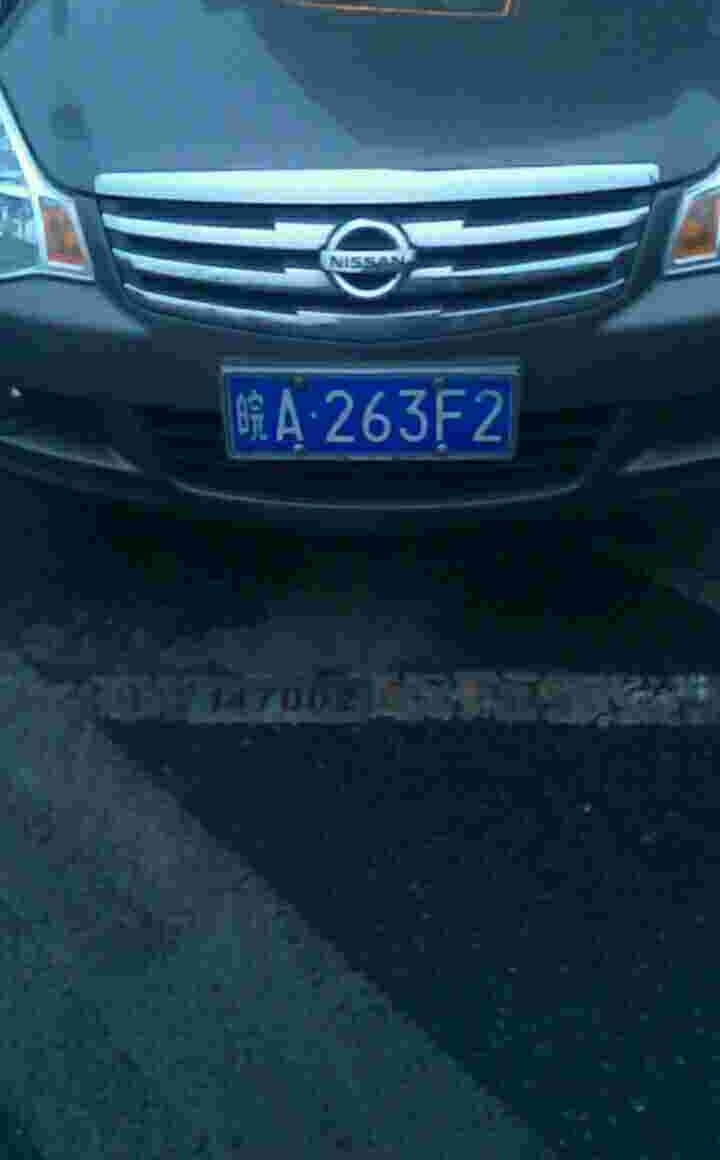license_plate: (228, 364, 535, 447)
